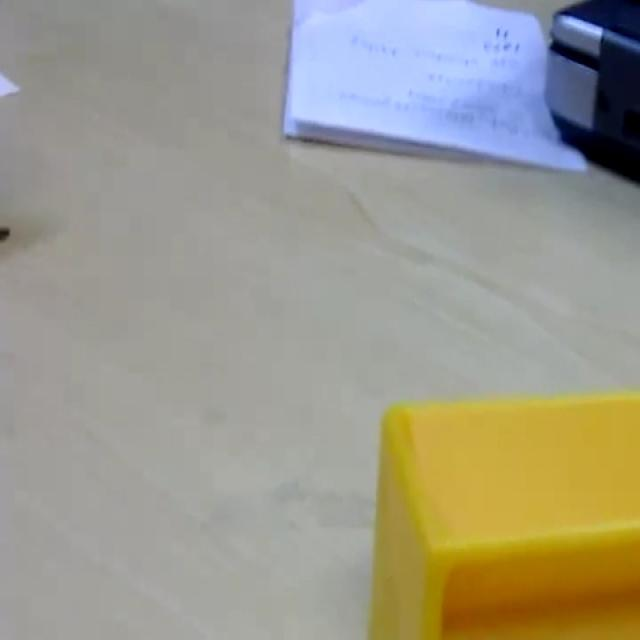yellow_block: (367, 388, 638, 636)
